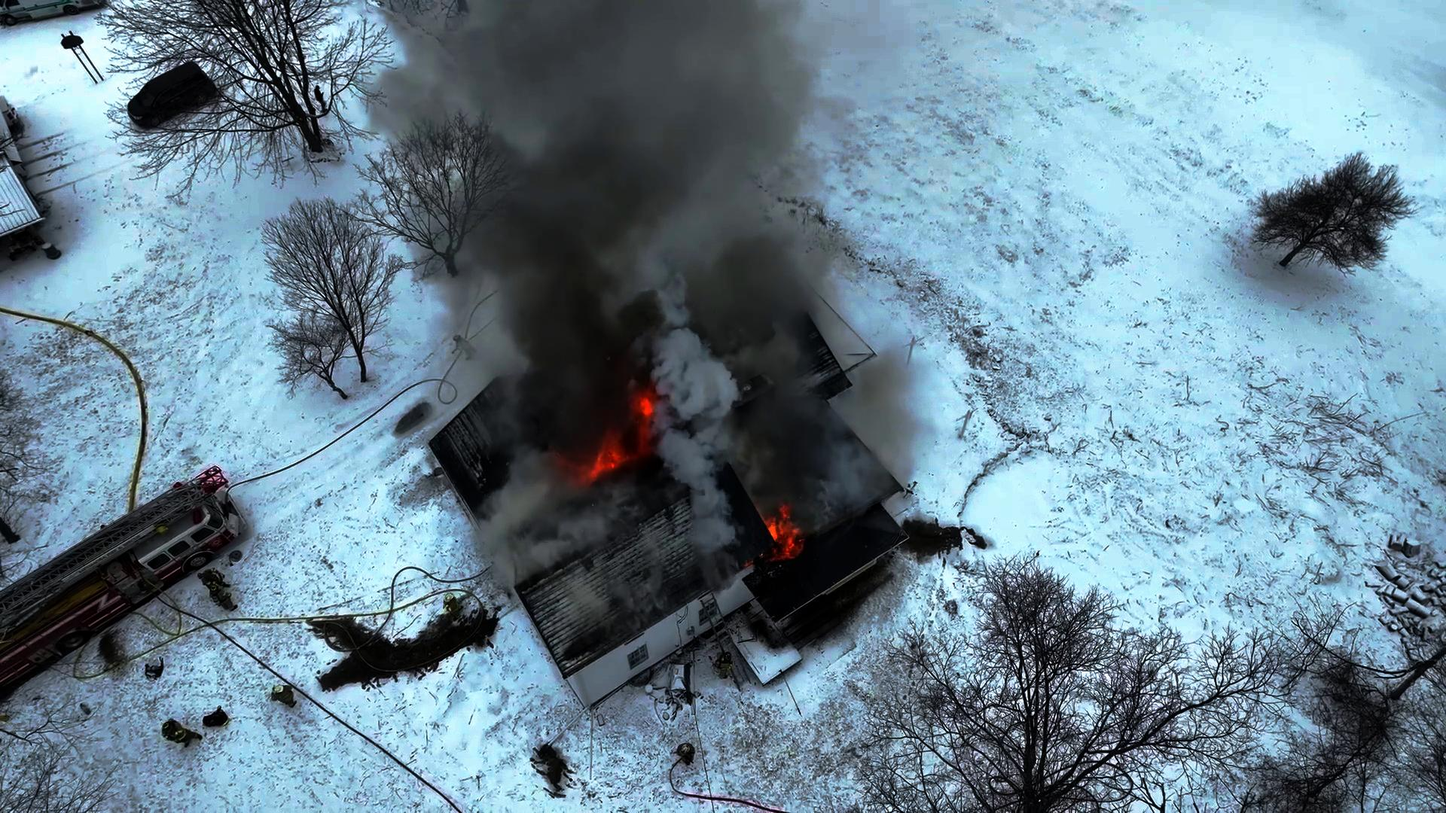fire: (543, 388, 646, 485), (745, 495, 808, 559)
smoke: (511, 101, 709, 306)
